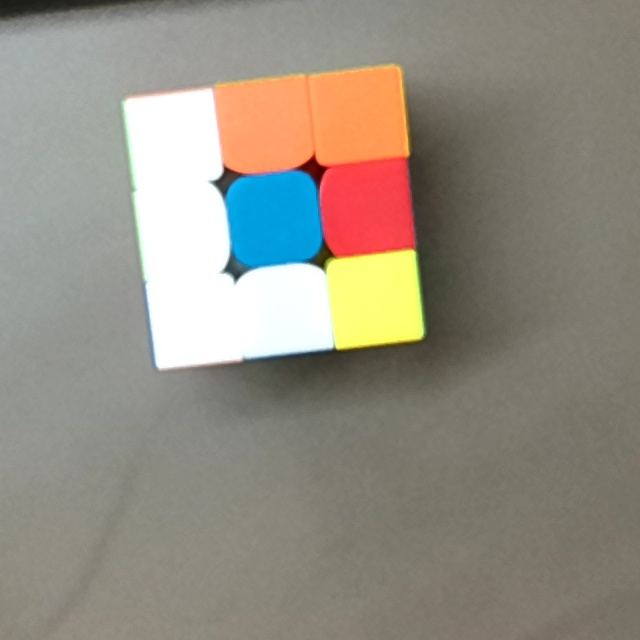tile: (317, 80, 399, 151), (131, 103, 208, 177), (243, 280, 324, 349), (155, 287, 232, 356), (338, 268, 413, 335), (228, 90, 304, 155), (333, 177, 405, 245), (239, 188, 310, 254), (145, 198, 217, 263)
